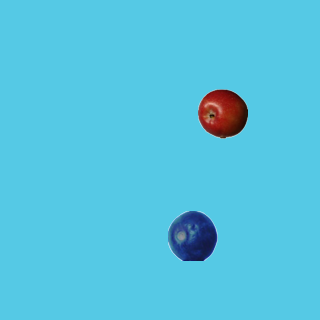Apple Braeburn: (197, 88, 247, 138)
Huckleberry: (167, 210, 217, 260)
